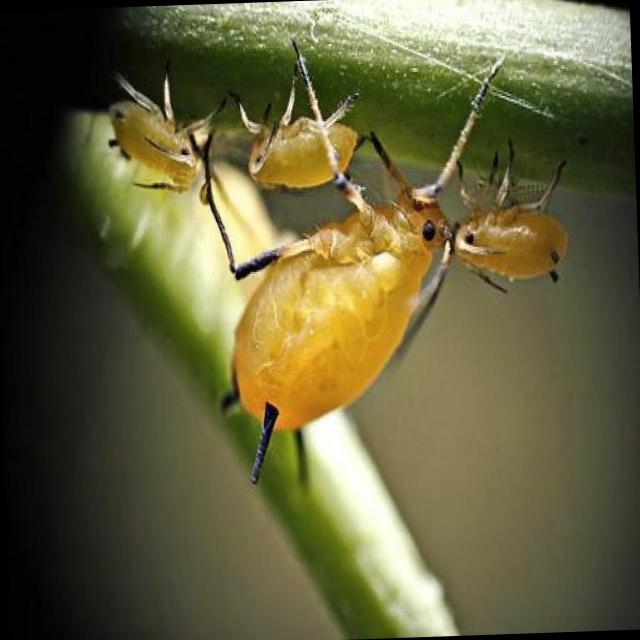aphid: (206, 104, 498, 488), (430, 150, 586, 328), (221, 47, 400, 199), (102, 80, 214, 204)
